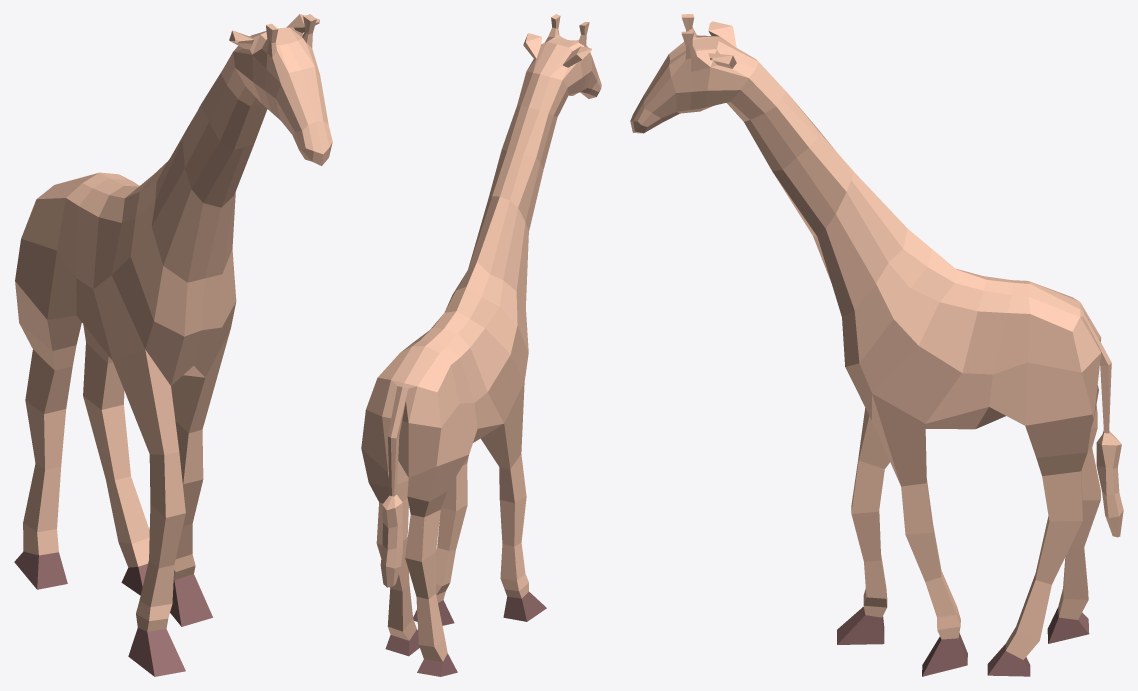
The model's file is Giraffe2.fbx.
The picture shows the model from 3 angles, left to right: view 1: azimuth 30°, elevation 25°; view 2: azimuth 150°, elevation 25°; view 3: azimuth 270°, elevation 25°; orthographic projection. The views are drawn at different scales.
Parts seen in each view (by area): view 1: Giraffe; view 2: Giraffe; view 3: Giraffe.
Part boxes in pixels (bbox=[...]): Giraffe: bbox=[14, 14, 332, 676]; Giraffe: bbox=[361, 14, 601, 676]; Giraffe: bbox=[630, 14, 1123, 676].
Size of the model in its own units: 0.8268 by 5.05 by 3.57.
